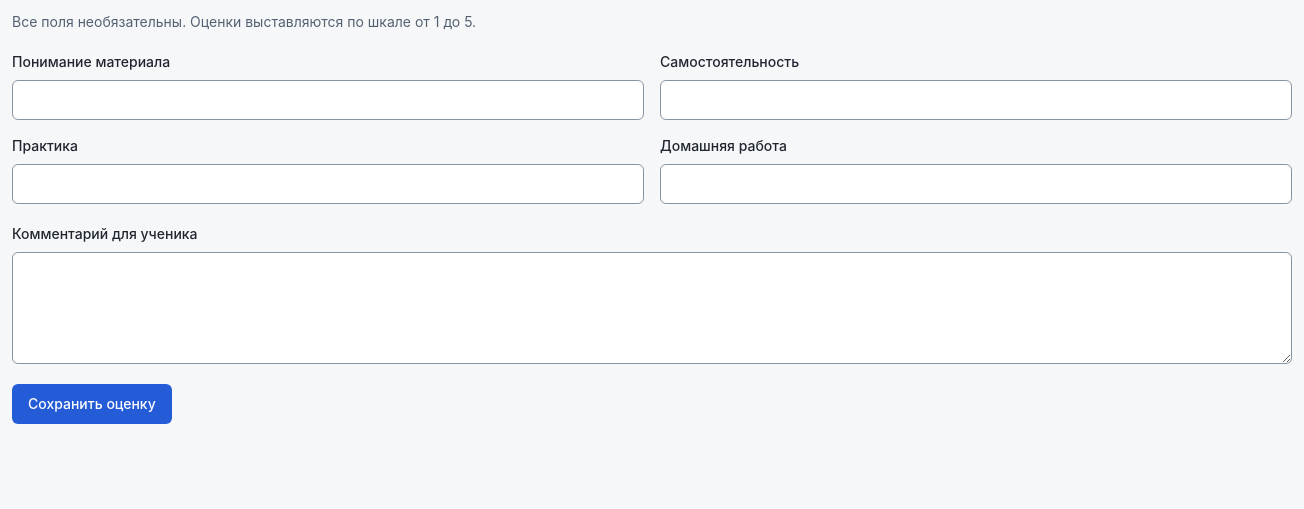
AssessmentForm › shows backend validation details and a safe save error
Click the button "Сохранить оценку". click: [92, 404]
box: [12, 384, 172, 424]
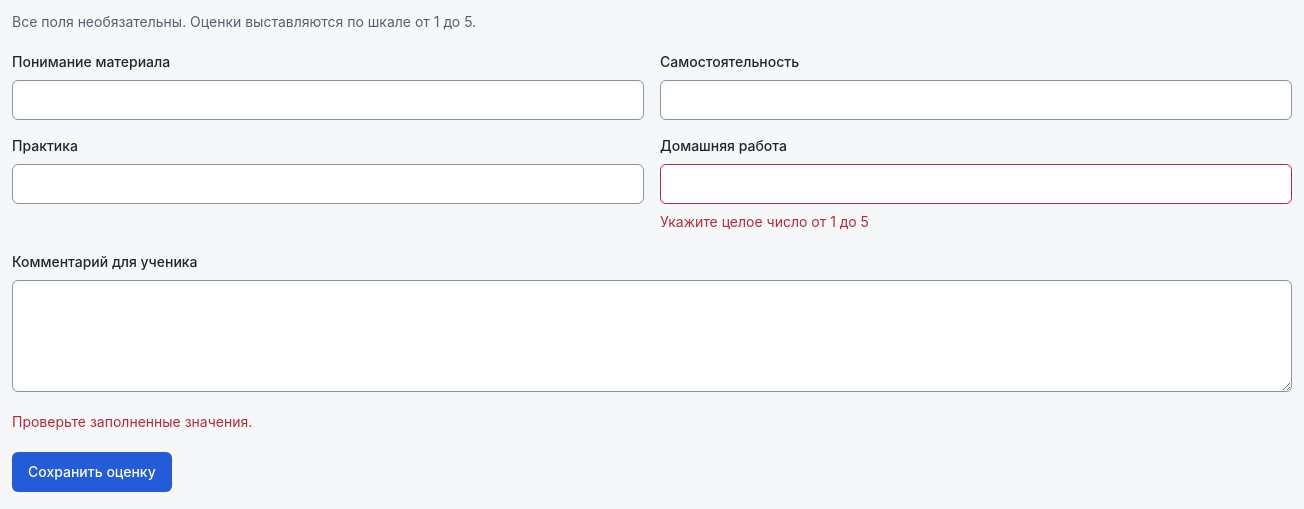
expect the message reads "Проверьте заполненные значения.": met, box [12, 413, 252, 430]
expect the text "Укажите целое число от 1 до 5" is shown: met, box [660, 213, 869, 230]
